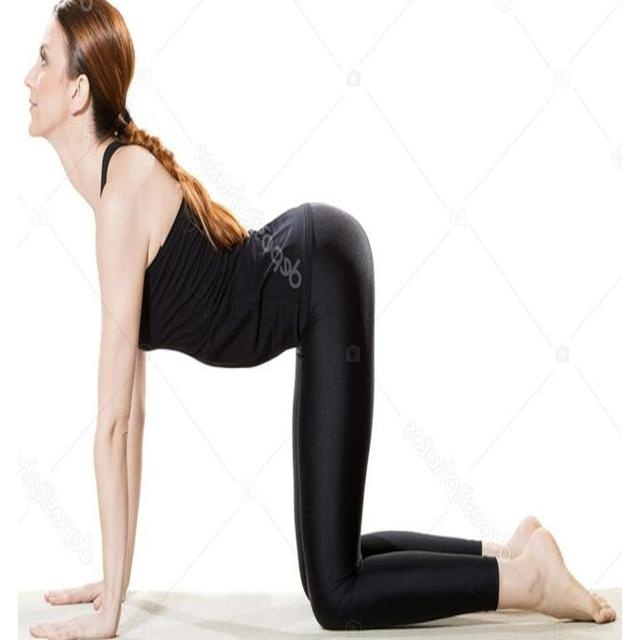Cow_Pose: (23, 4, 616, 636)
